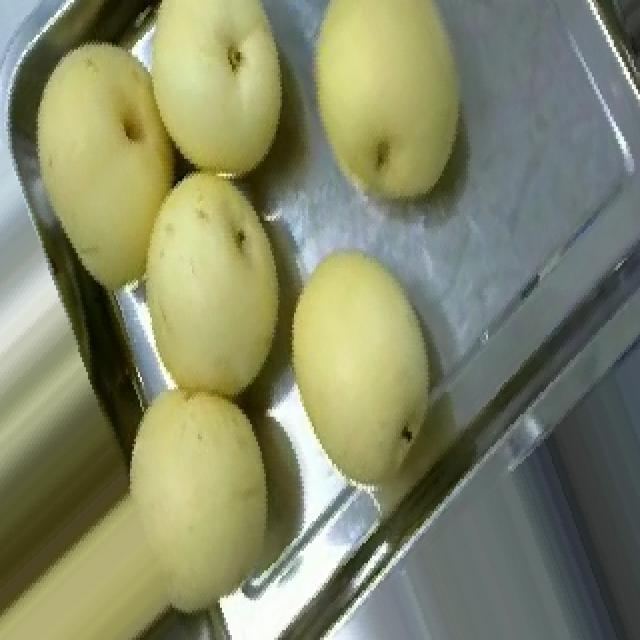Fruit: (0, 7, 220, 315), (78, 359, 318, 640), (102, 136, 314, 424), (258, 228, 450, 509), (282, 0, 488, 221), (114, 0, 318, 203)
